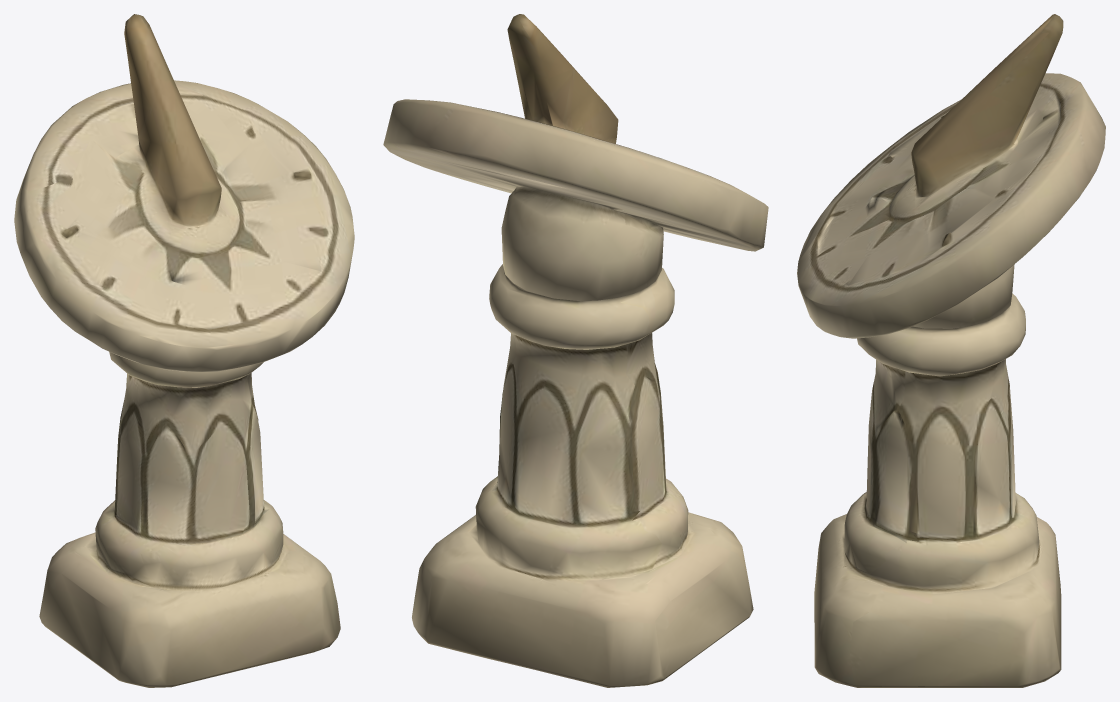
The model's file is sundial.glb.
3 renders of one model, left to right at view 1: azimuth 30°, elevation 25°; view 2: azimuth 150°, elevation 25°; view 3: azimuth 270°, elevation 25°, orthographic. The views are drawn at different scales.
Visible parts, largest first — view 1: model; view 2: model; view 3: model.
Boxes of the visible parts, x1,y1,x2,y2 form: model: [14, 14, 354, 687]; model: [383, 14, 768, 687]; model: [797, 14, 1105, 687].
Size of the model in its own units: 1.04 by 1.89 by 0.8571.
1 material, 1 textured.
